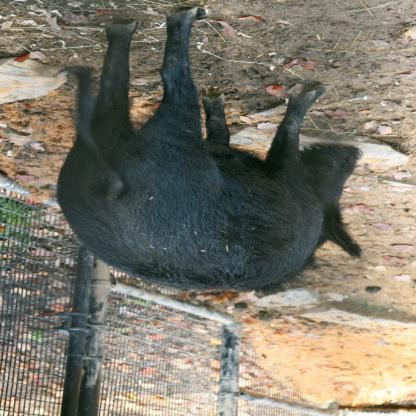boar: (56, 6, 364, 292)
